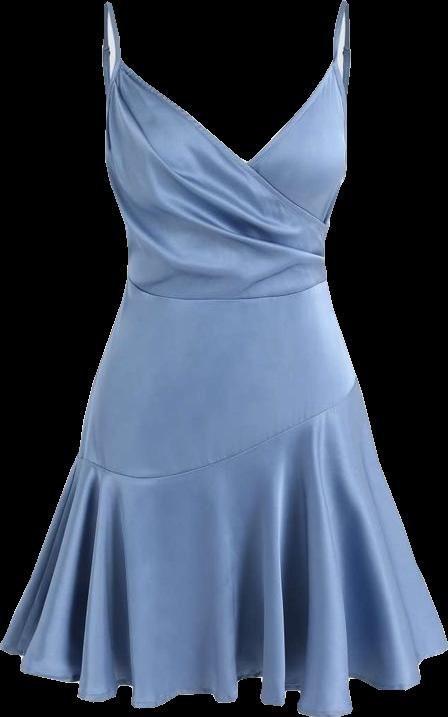Bodice: (102, 0, 350, 302)
Hemline: (0, 641, 447, 716)
Neckline: (105, 0, 349, 168)
Skirt: (0, 284, 447, 716)
Waistline: (76, 381, 359, 481), (124, 278, 330, 310)
